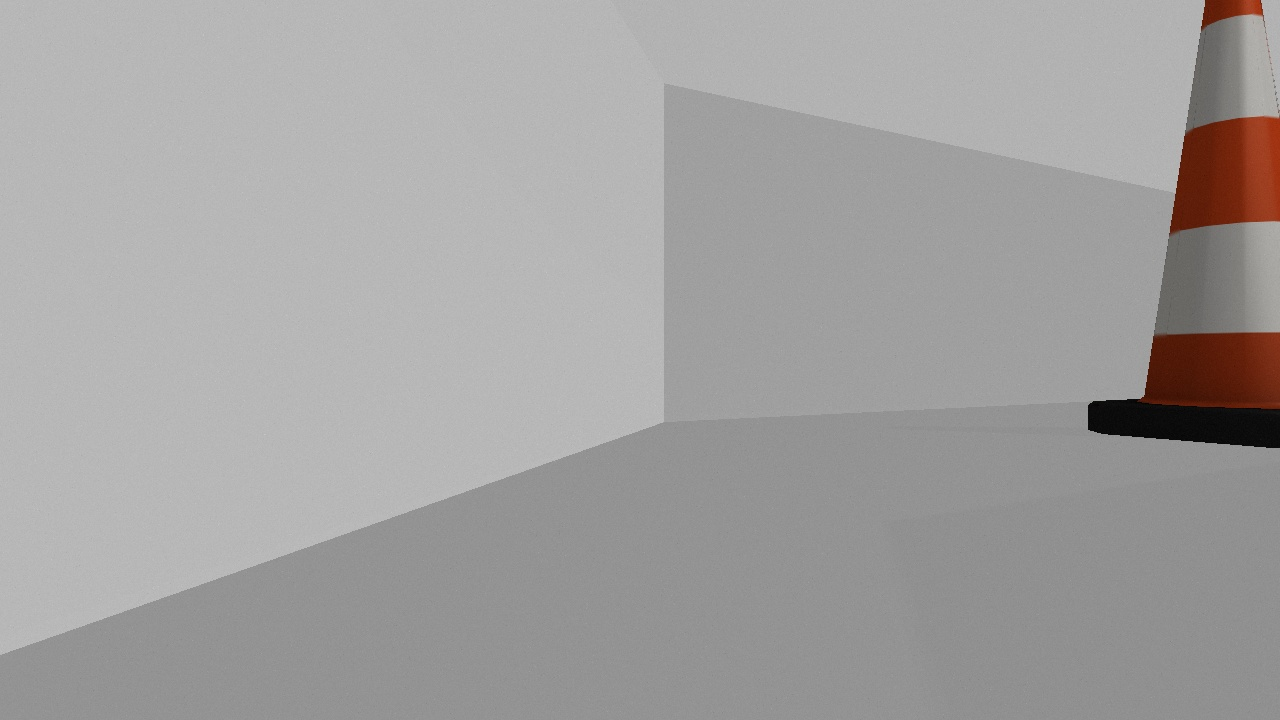barricade: (1086, 1, 1280, 447)
